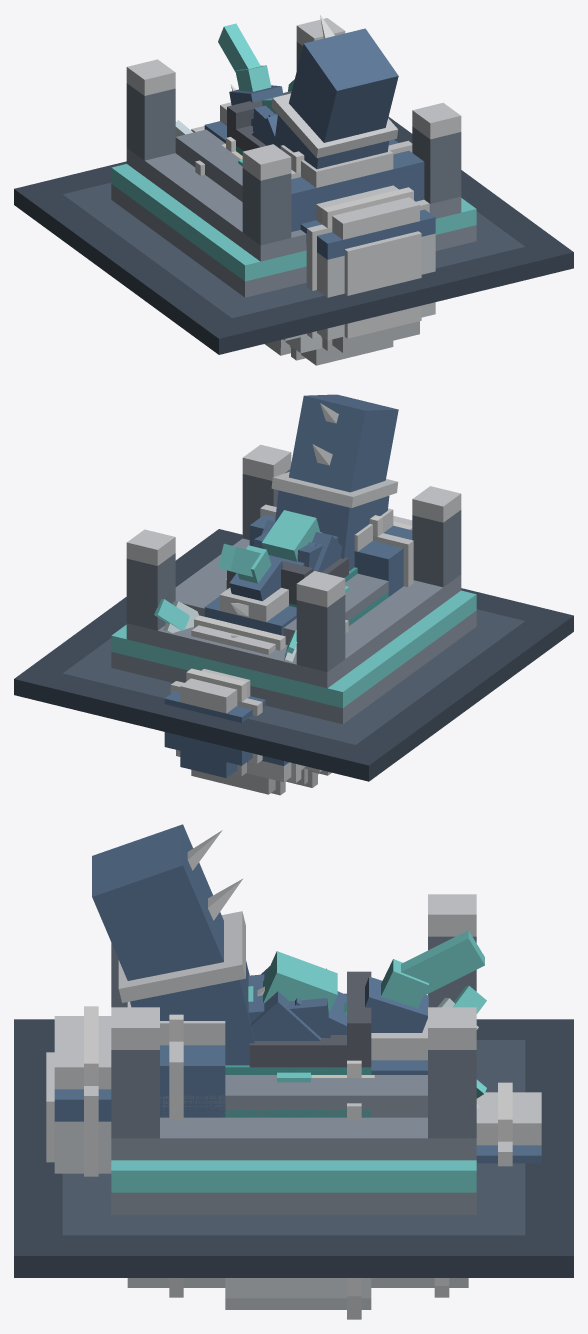
Rendered from Trainer7.glb.
The picture shows the model from 3 angles, top to bottom: view 1: azimuth 30°, elevation 25°; view 2: azimuth 150°, elevation 25°; view 3: azimuth 270°, elevation 25°; orthographic projection. The views are drawn at different scales.
Visible parts, largest first — view 1: Stand, Body, Head, T1; view 2: Stand, Body, Head, Fin, T1, T2; view 3: Stand, Body, Head, Fin, T1, T2, T3.
Boxes of the visible parts, box(x1,y1,x2,y2) form: Stand: box(14, 18, 573, 354); Body: box(191, 14, 435, 365); Head: box(175, 23, 294, 159); T1: box(251, 115, 277, 145); Stand: box(14, 444, 573, 781); Body: box(164, 394, 413, 795); Head: box(154, 543, 297, 662); Fin: box(262, 510, 321, 561); T1: box(261, 520, 341, 572); T2: box(253, 531, 338, 570); Stand: box(14, 894, 573, 1277); Body: box(46, 824, 541, 1319); Head: box(292, 930, 486, 1109); Fin: box(248, 951, 346, 1015); T1: box(251, 966, 321, 1040); T2: box(248, 968, 330, 1037); T3: box(295, 991, 346, 1034).
Size of the model in its own units: 9.2 by 8.36 by 9.2.
